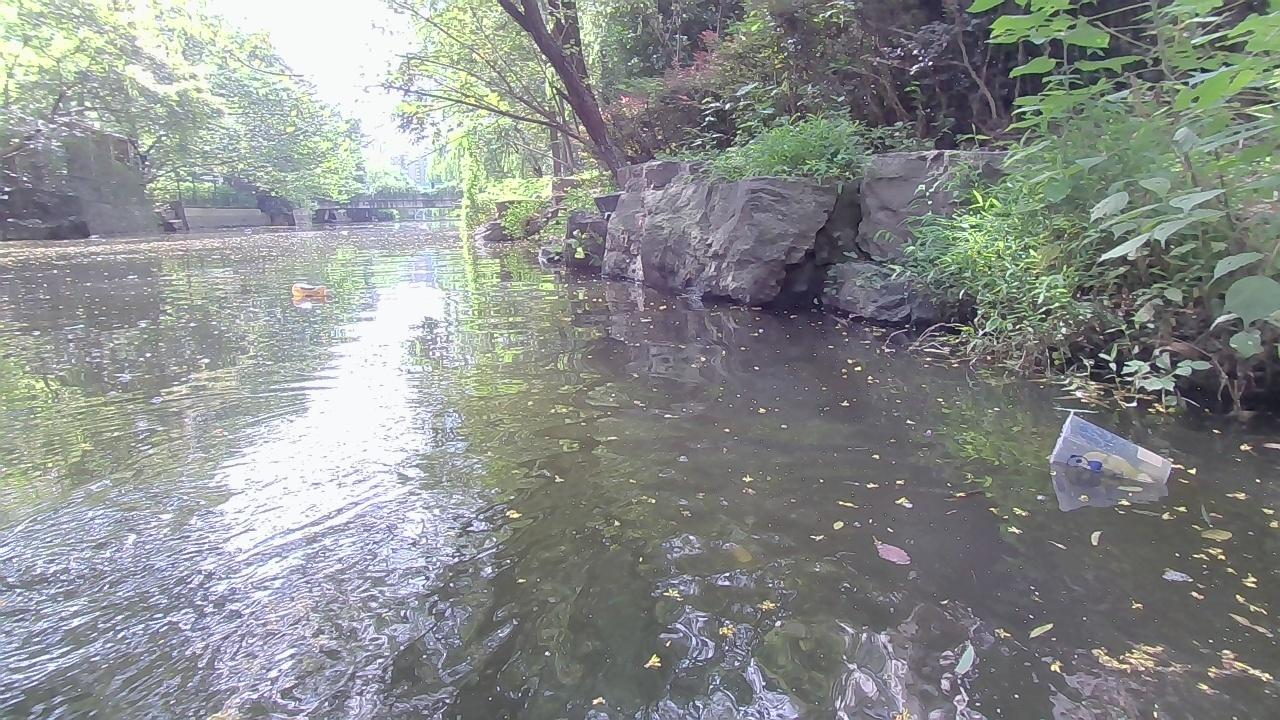bottle: (1048, 409, 1177, 481), (288, 282, 331, 300)
